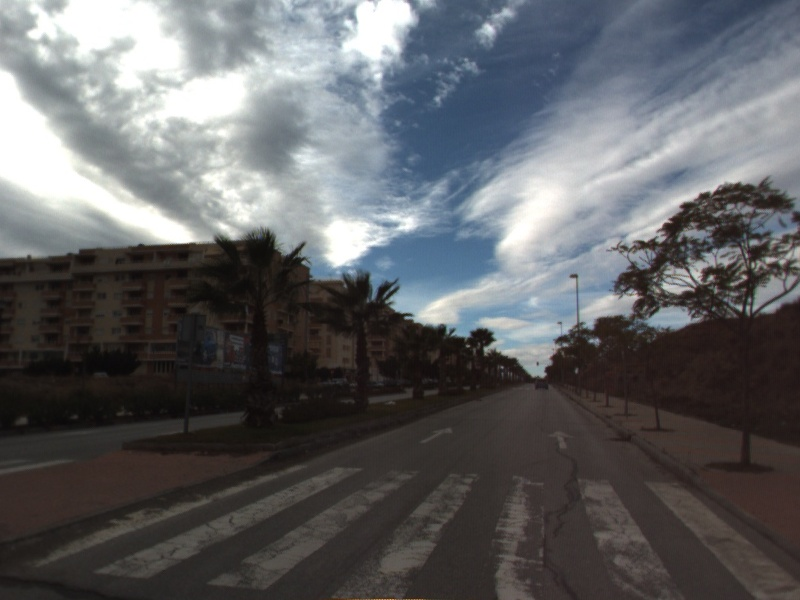STRAIGHT: (418, 425, 455, 445), (546, 428, 575, 451)
